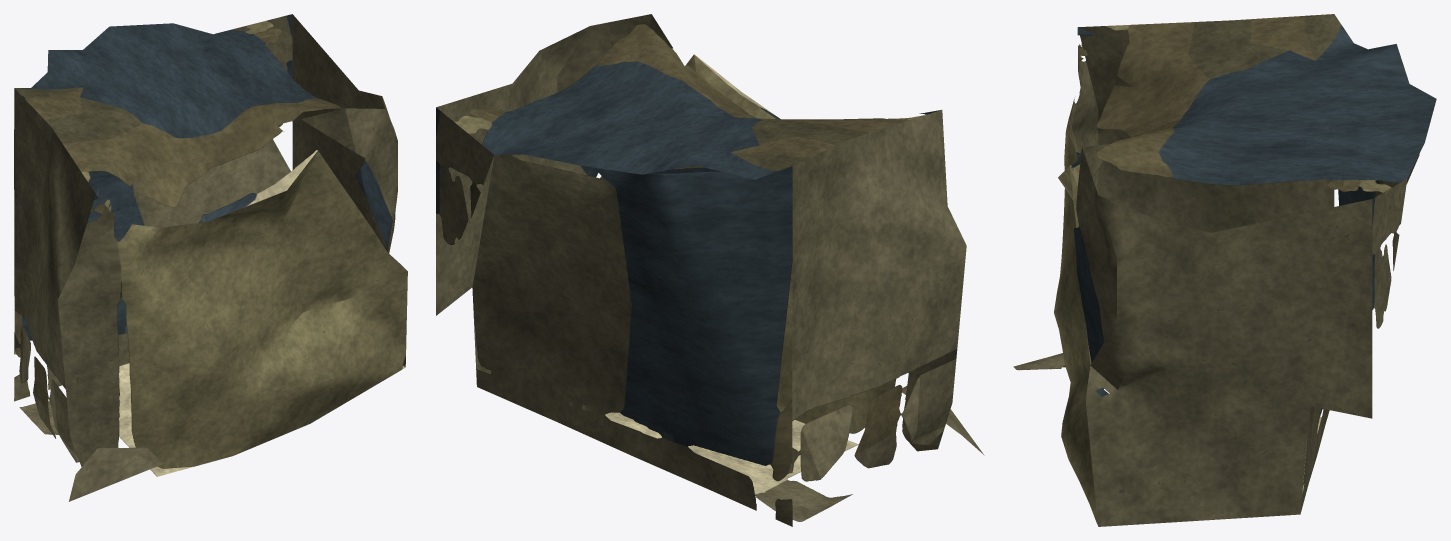
File: OrirockCube_Finished.fbx
3 views of the same model, side by side, from view 1: azimuth 30°, elevation 25°; view 2: azimuth 150°, elevation 25°; view 3: azimuth 270°, elevation 25° (orthographic). The views are drawn at different scales.
Parts seen in each view (by area): view 1: OrirockCube_Body, OrirockCube_Chip; view 2: OrirockCube_Body; view 3: OrirockCube_Body, OrirockCube_Chip.
Boxes of the visible parts, x1=… form: OrirockCube_Body: x1=14, y1=14, x2=407, y2=476; OrirockCube_Chip: x1=69, y1=447, x2=163, y2=501; OrirockCube_Body: x1=436, y1=14, x2=966, y2=526; OrirockCube_Body: x1=1054, y1=14, x2=1436, y2=526; OrirockCube_Chip: x1=1013, y1=353, x2=1065, y2=370.
Size of the model in its own units: 135 by 130 by 116.
